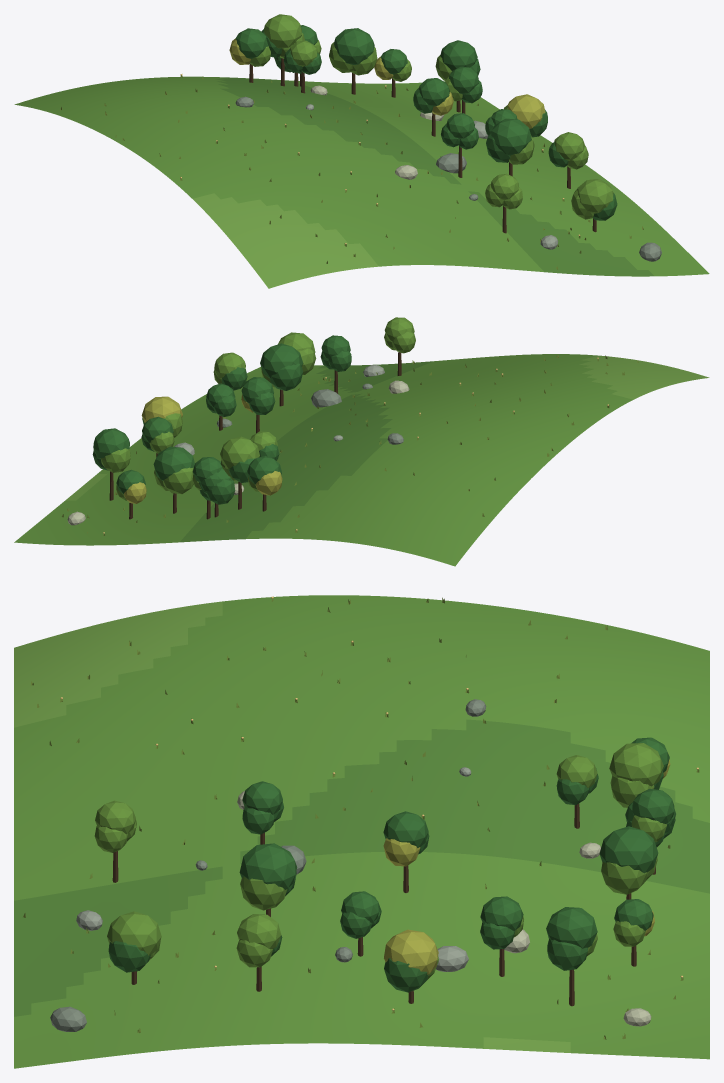
File: Chunk_X3_Y0_Z-2.fbx
3 views of the same model, one above another, from view 1: azimuth 30°, elevation 25°; view 2: azimuth 150°, elevation 25°; view 3: azimuth 270°, elevation 25° (orthographic). The views are drawn at different scales.
Parts seen in each view (by area): view 1: Terrain.043, Canopies.042, Rocks.043, Trunks.042, GroundCover.043; view 2: Terrain.043, Canopies.042, Rocks.043, Trunks.042, GroundCover.043; view 3: Terrain.043, Canopies.042, Rocks.043, Trunks.042, GroundCover.043.
Part boxes in pixels (bbox=[...]): Terrain.043: bbox=[14, 76, 709, 288]; Canopies.042: bbox=[229, 14, 617, 220]; Rocks.043: bbox=[235, 85, 661, 261]; Trunks.042: bbox=[249, 58, 596, 233]; GroundCover.043: bbox=[60, 74, 643, 269]; Terrain.043: bbox=[14, 354, 709, 566]; Canopies.042: bbox=[92, 317, 415, 504]; Rocks.043: bbox=[67, 365, 409, 525]; Trunks.042: bbox=[109, 352, 401, 519]; GroundCover.043: bbox=[62, 355, 638, 535]; Terrain.043: bbox=[14, 595, 709, 1068]; Canopies.042: bbox=[94, 737, 675, 992]; Rocks.043: bbox=[50, 699, 651, 1031]; Trunks.042: bbox=[112, 803, 655, 1006]; GroundCover.043: bbox=[23, 596, 699, 1039].
Bounding box in the file's own units: 100 × 30.3 × 100.
